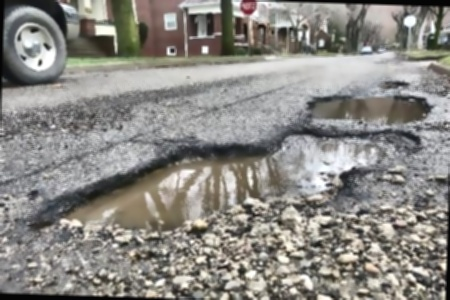pothole: (35, 118, 425, 250), (306, 90, 436, 127), (381, 77, 412, 90)
